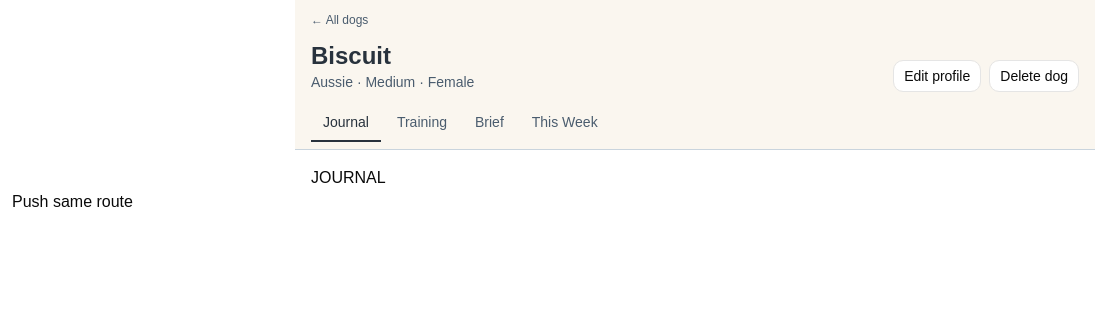
Test: DogLayout › shows inline recovery while a Brief delivery protects deletion
What coordinates should you click on to do the following:
click the button "Delete dog"
I would click on:
 (1034, 76)
Its box is [989,60,1079,92].
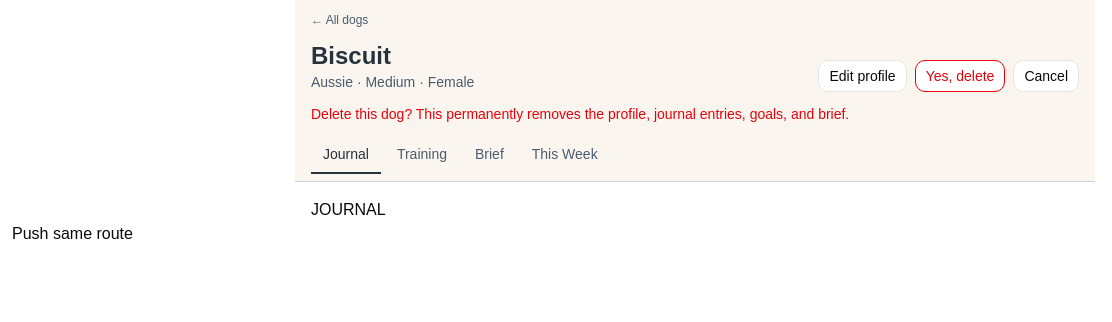
What coordinates should you click on to do the following:
click the button "Yes, delete"
I would click on:
 (960, 76)
Its box is [915,60,1005,92].
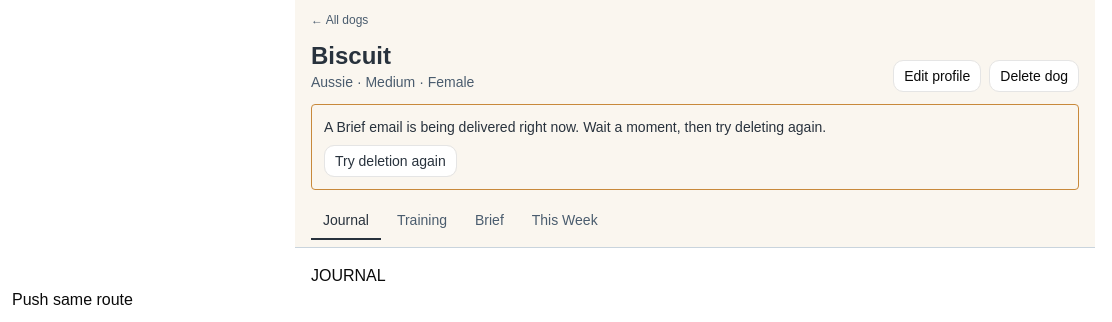
Result: the message is shown at [311,104,1079,190]
Result: the message shows "Brief email is being delivered" at [324,119,826,135]
Result: the button "Try deletion again" is shown at [324,145,457,177]
